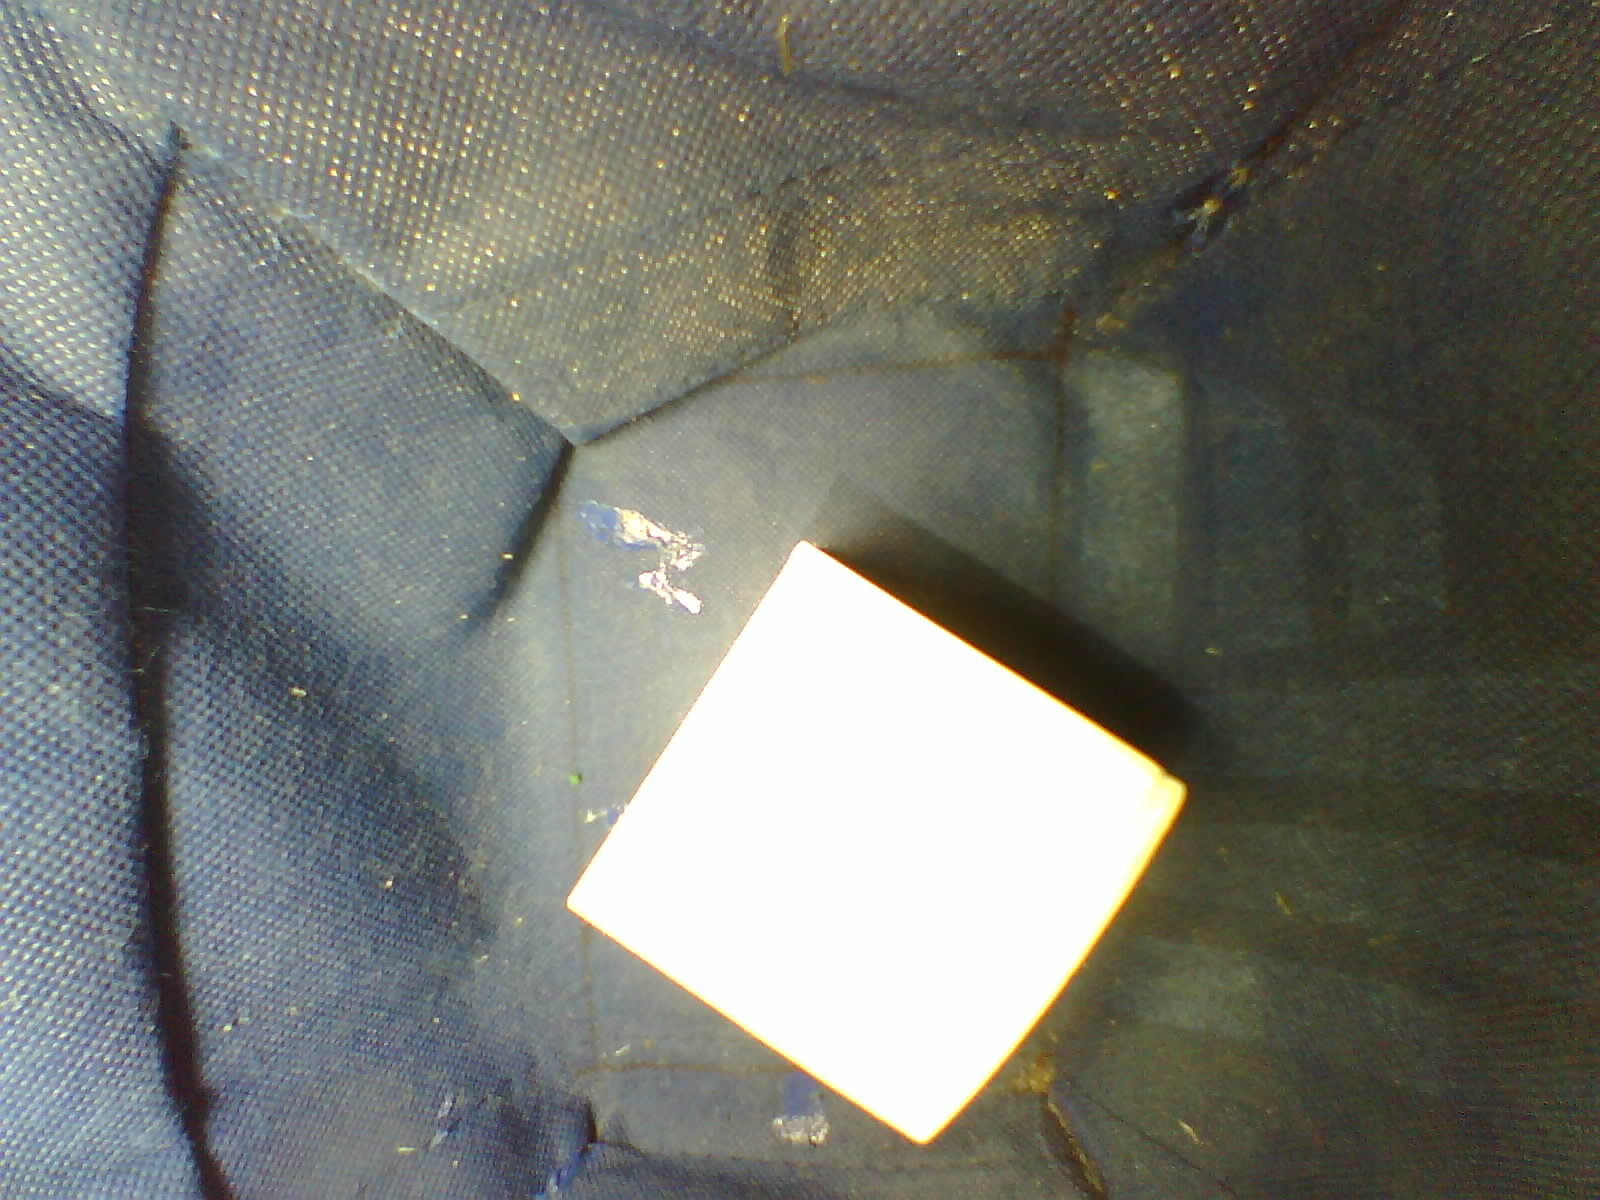cube-hard: (530, 523, 1223, 1158)
